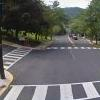Crosswalk: (17, 75, 100, 99)
